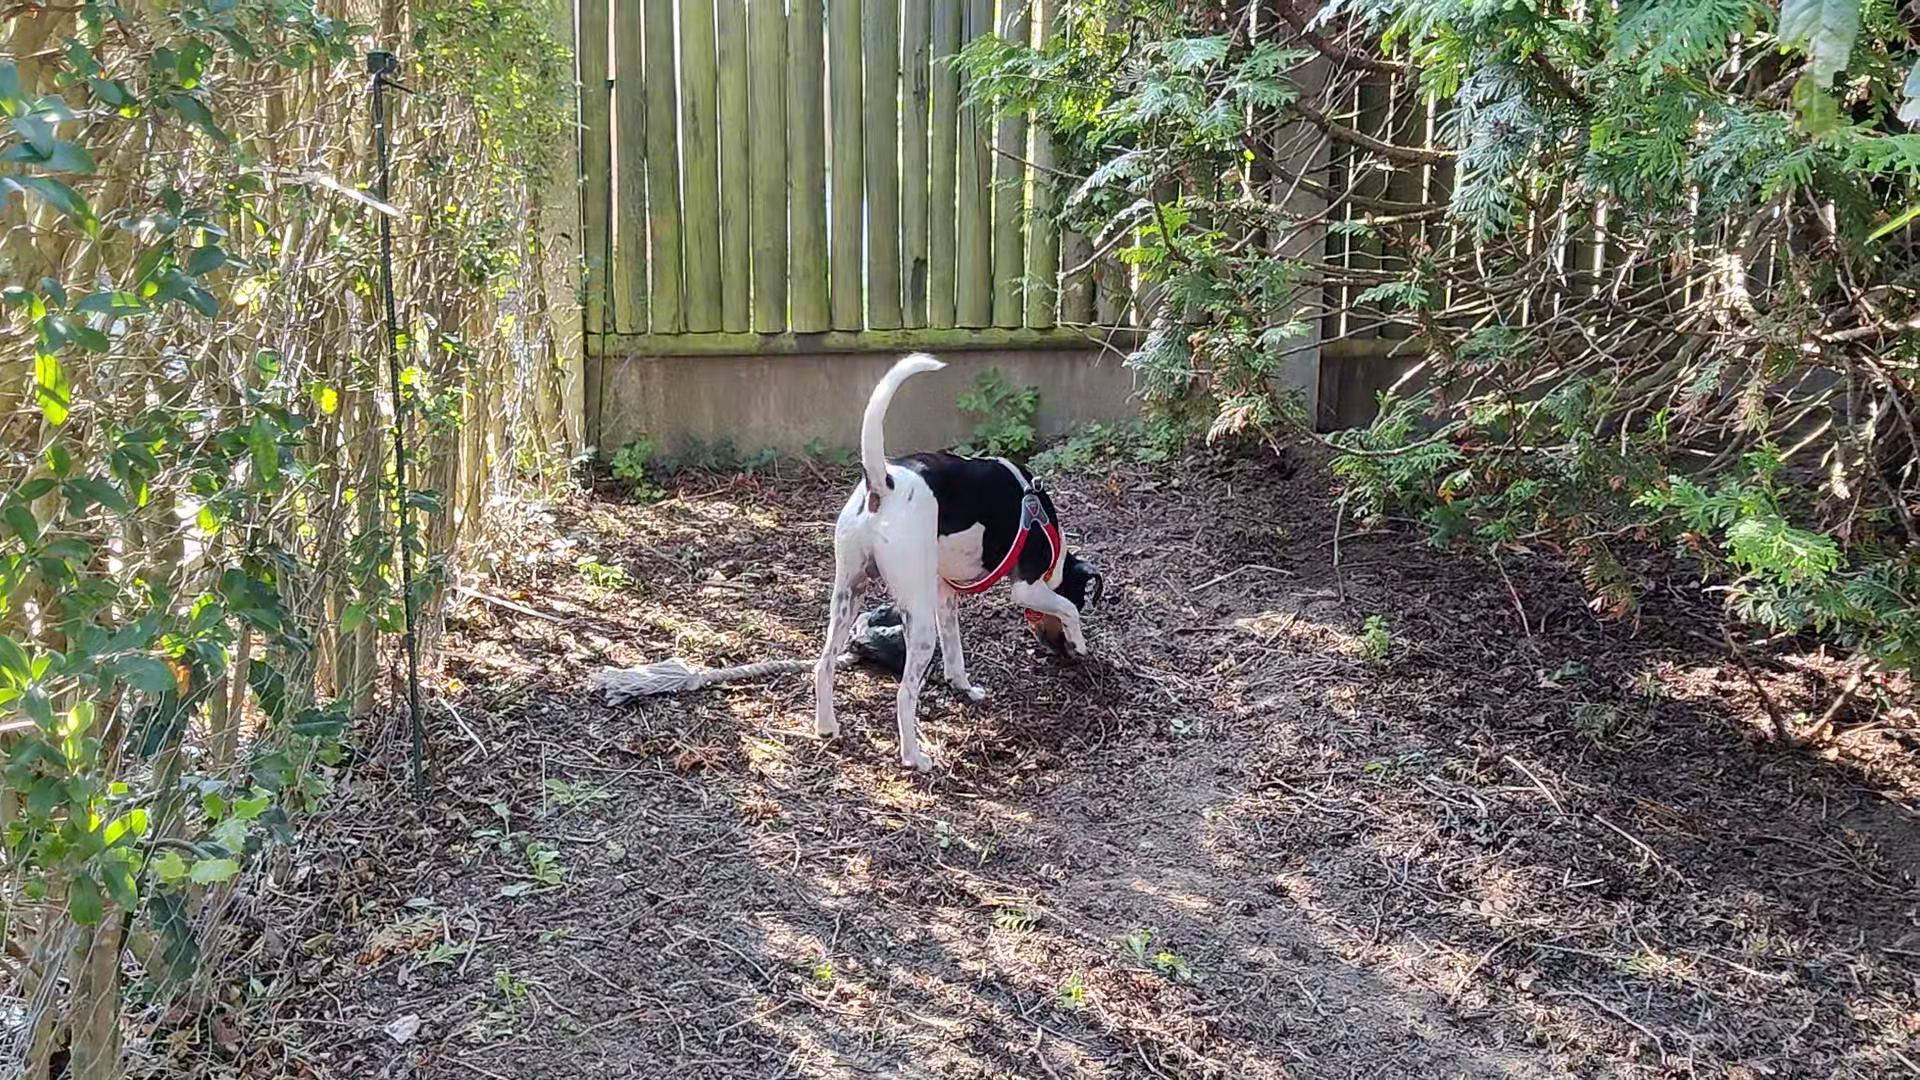Dog: (803, 345, 1112, 778)
